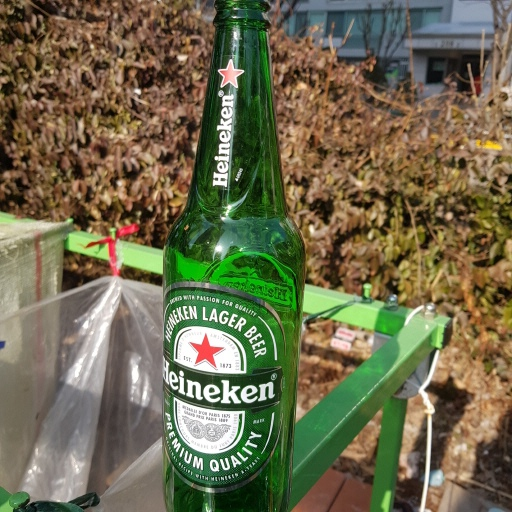Glass_1: (162, 5, 309, 512)
